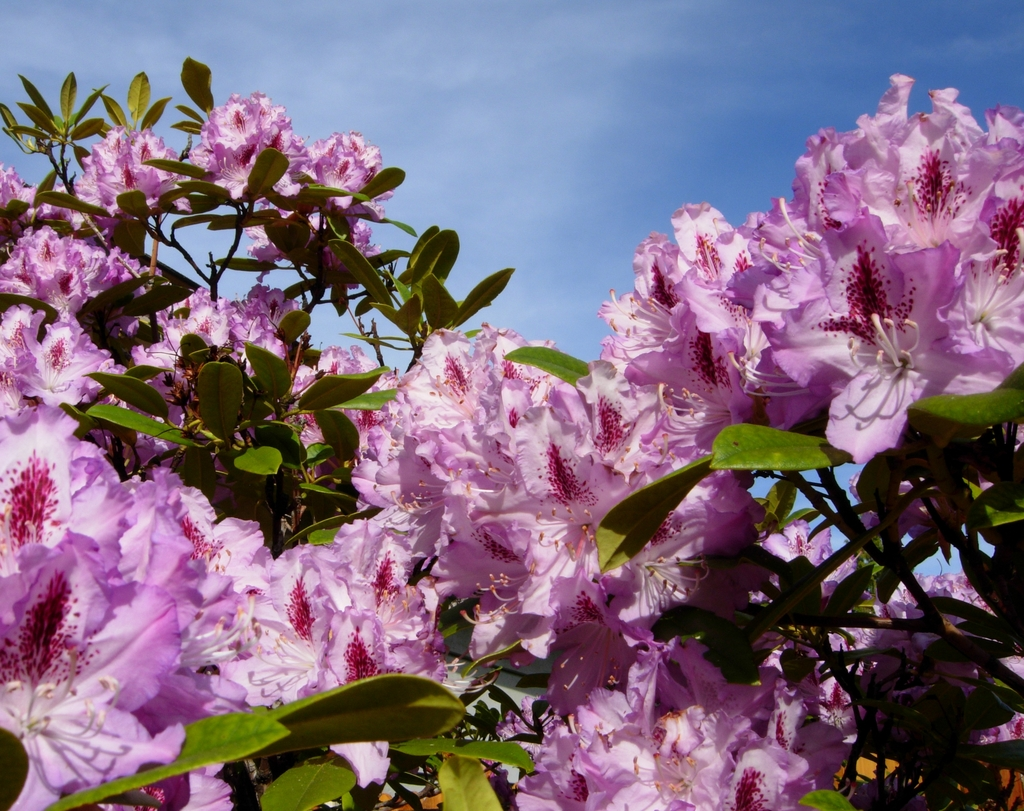Tree: (0, 57, 1024, 811)
